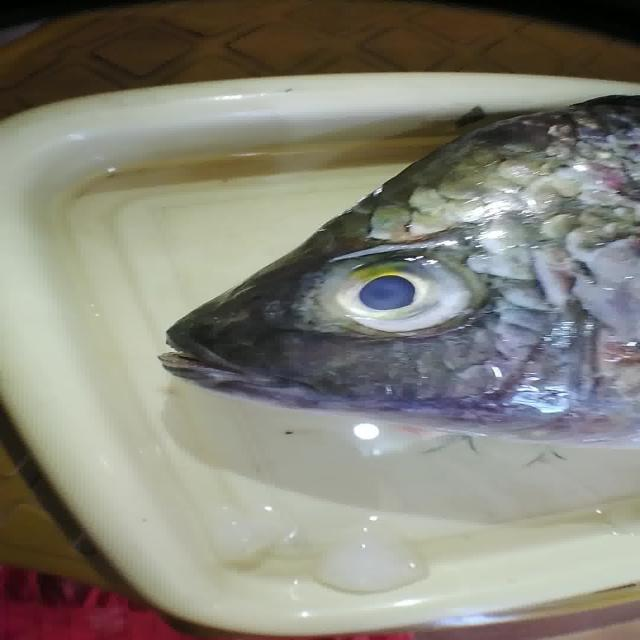Fresh: (276, 254, 530, 344)
